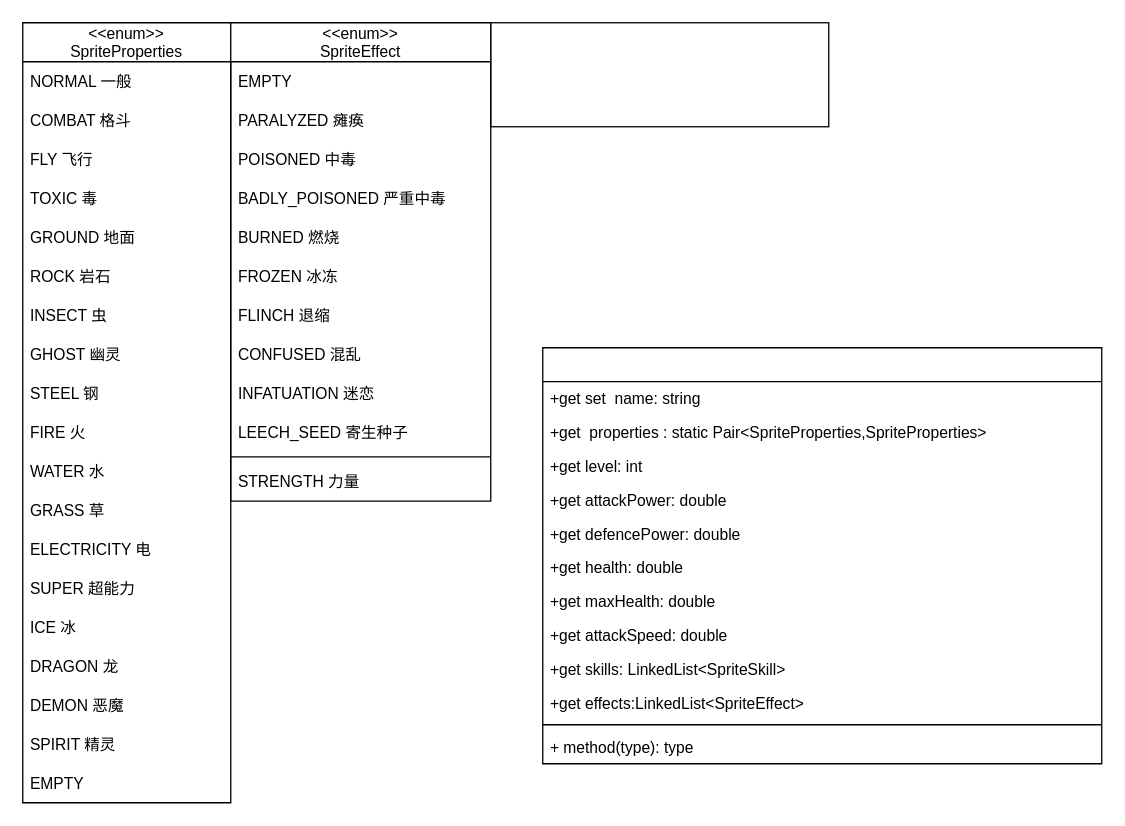
Some shapes in this 1125 by 826 pixel diagram are drawn without their labels. The shapes that lost their labels are listed below. From the top down, each one's box as (x1, y1, x2, y2) in pixels, then its label:
(489, 21, 829, 127): <<Interface>> SpriteSkill + Release(Sprite source, Sprite target): void
(541, 346, 1102, 764): Sprite
